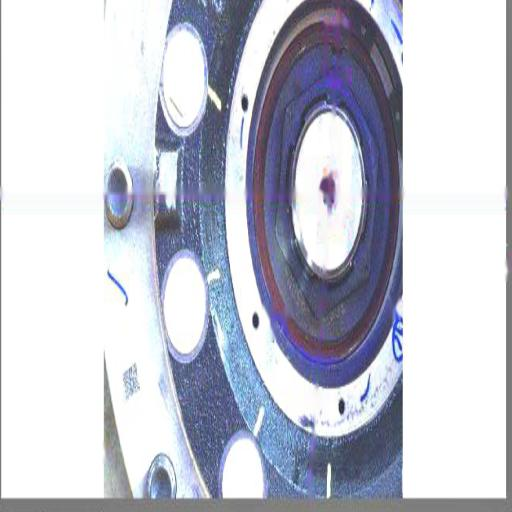center: (317, 174, 333, 200)
notch: (326, 34, 346, 68)
